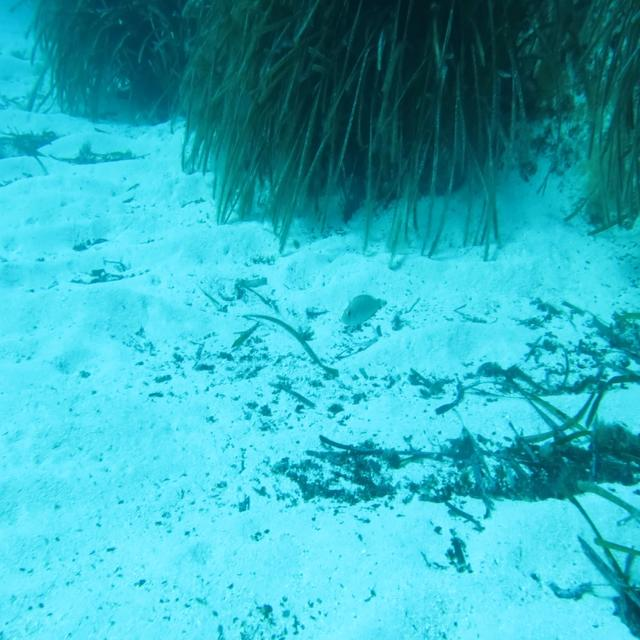BN: (337, 292, 390, 336)
vegetation: (46, 0, 639, 233), (466, 313, 640, 516)
